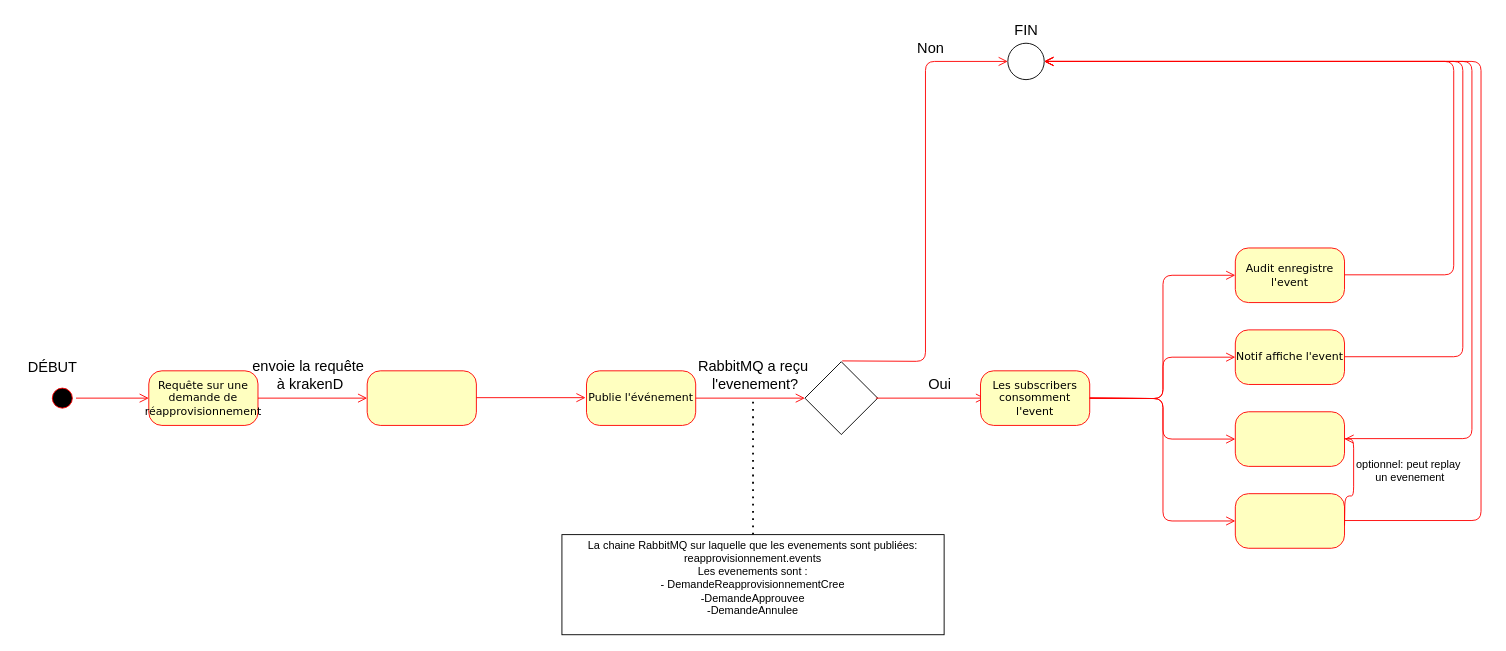
The diagram is 1506 pixels wide and 651 high, and some of its shapes have lost their labels. The centre of each missing label's shape, as x and y in pixels:
"Recupère + traite la requête" goes at point (421, 397).
"Supplies-event-store enregistre l'event" goes at point (1289, 438).
"Supplies-Query met à jour la projection" goes at point (1289, 520).
